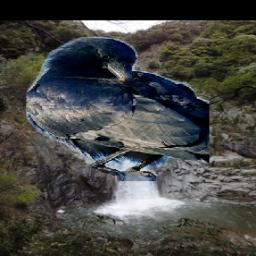Crow: (25, 37, 208, 181)
